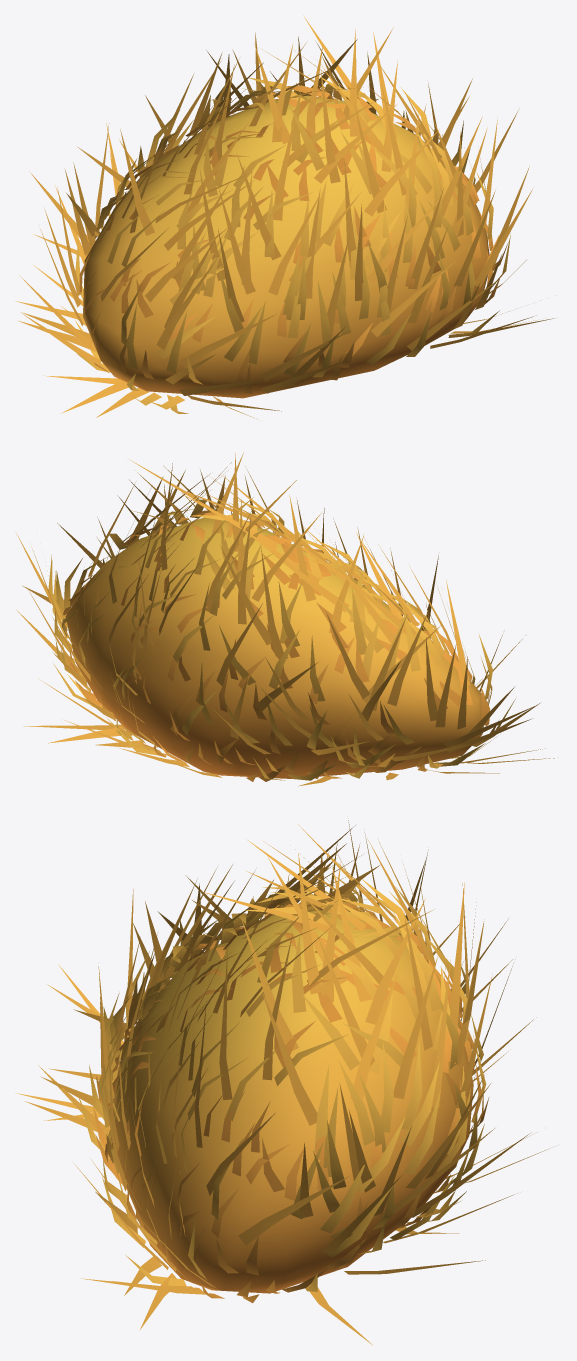
File: haystackround.glb
3 views of the same model, one above another, from view 1: azimuth 30°, elevation 25°; view 2: azimuth 150°, elevation 25°; view 3: azimuth 270°, elevation 25° (orthographic). The views are drawn at different scales.
Parts seen in each view (by area): view 1: haystackround; view 2: haystackround; view 3: haystackround.
Boxes of the visible parts, box(x1,y1,x2,y2) form: haystackround: box(15, 15, 555, 419); haystackround: box(16, 452, 558, 786); haystackround: box(15, 820, 557, 1344).
Bounding box in the file's own units: 4.36 × 2.43 × 3.06.
Materials: 1 (1 with a texture image).
